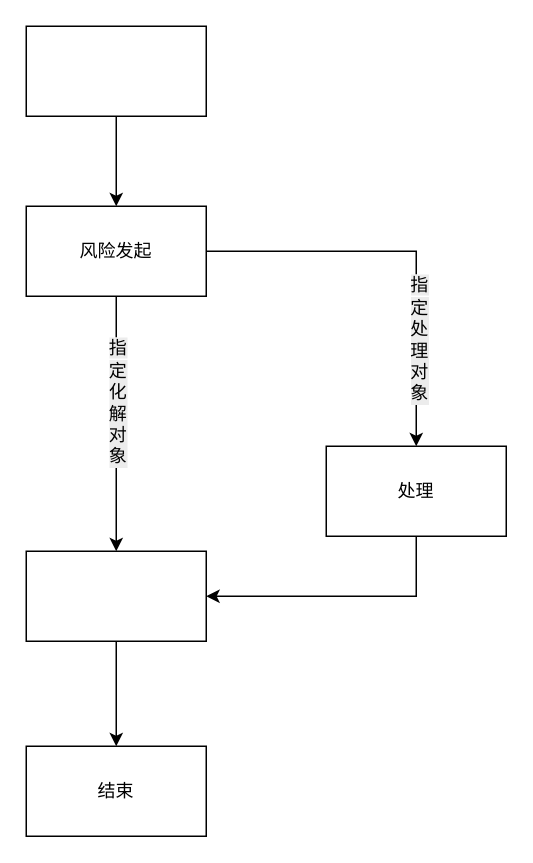
Image size: 533x863. Some labels were removed from this diagram. Each missing label, with the box of its shape:
化解: (25, 550, 206, 641)
开始: (25, 25, 206, 116)
